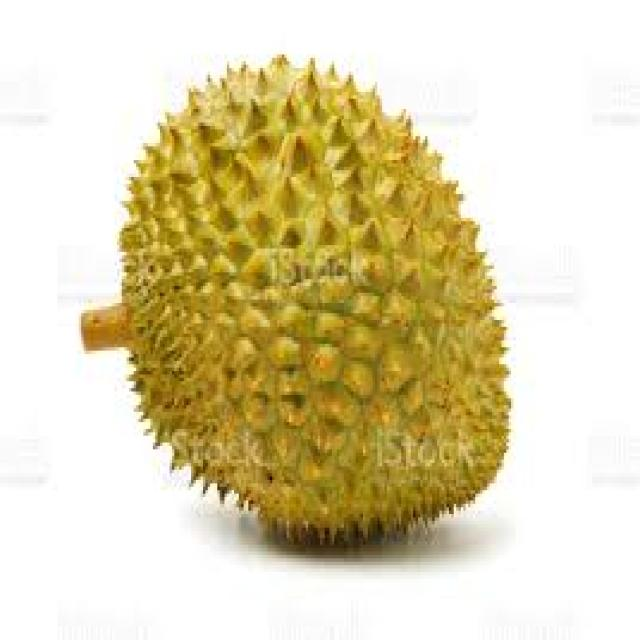mature: (120, 57, 510, 543)
